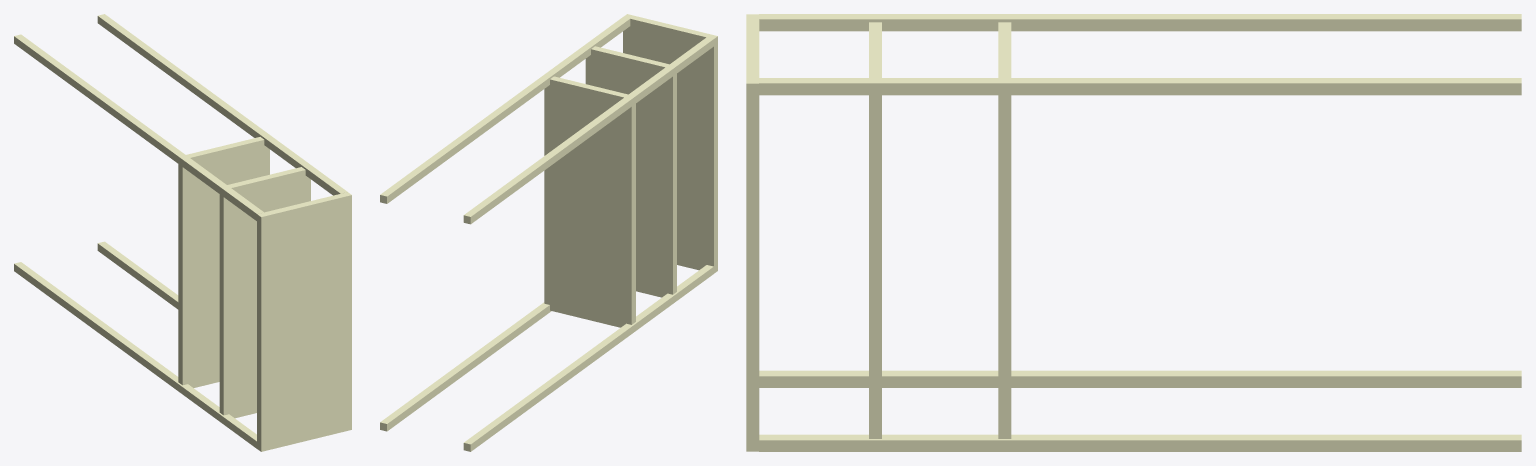
The model's file is nil_link_mesh.dae.
The picture shows the model from 3 angles, left to right: view 1: azimuth 30°, elevation 25°; view 2: azimuth 150°, elevation 25°; view 3: azimuth 270°, elevation 25°; orthographic projection. The views are drawn at different scales.
Visible parts, largest first — view 1: nil_link (×7); view 2: nil_link (×7); view 3: nil_link (×7).
Boxes of the visible parts, x1,y1,x2,y2 form: nil_link (×7): (14,14,351,451); nil_link (×7): (380,14,717,451); nil_link (×7): (746,14,1521,451).
Bounding box in the file's own units: 0.445 × 1.1 × 2.1.
